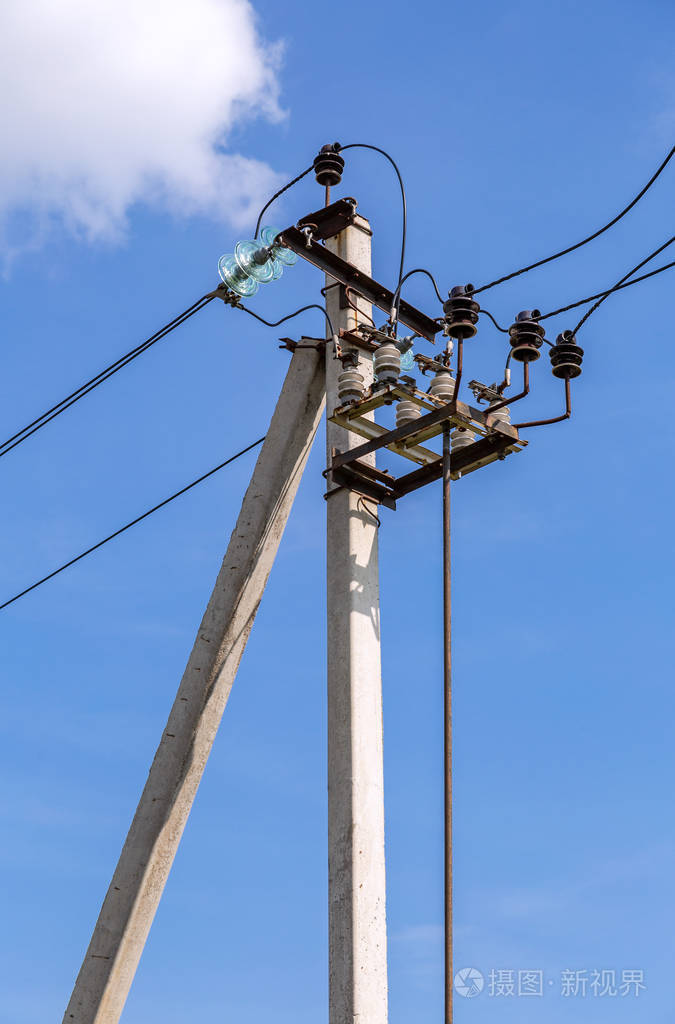insulator: (215, 225, 298, 298), (439, 296, 481, 339), (507, 317, 544, 362), (547, 344, 589, 382), (311, 146, 348, 187)
